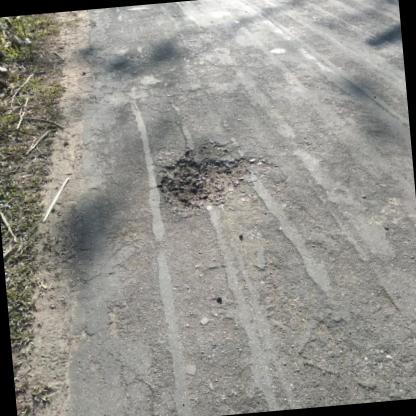pothole: (154, 138, 270, 215)
